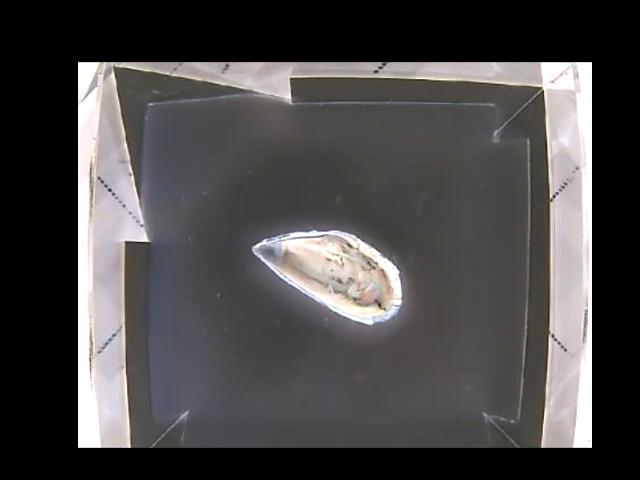Shell: (253, 228, 403, 329)
